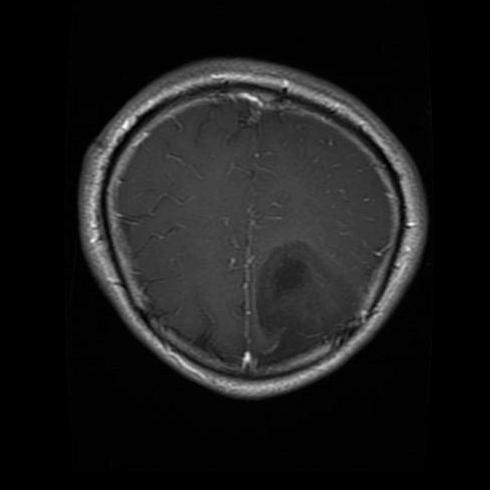Tumour-Glioma: (247, 238, 339, 338)
